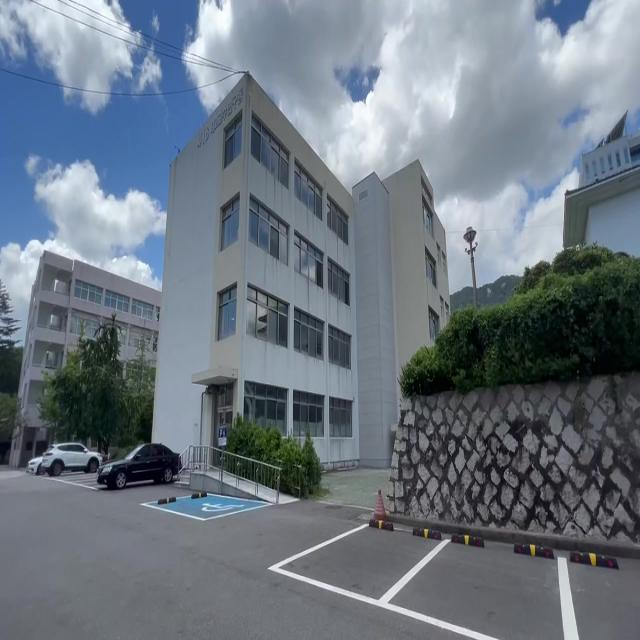building: (162, 94, 458, 369)
